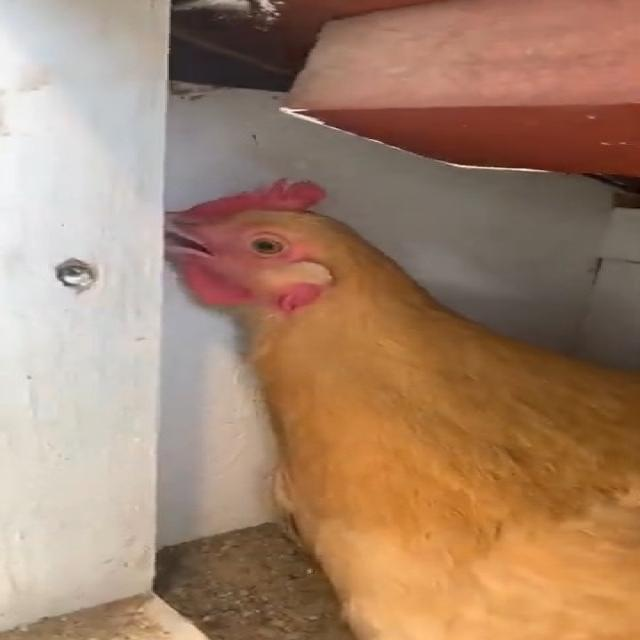Breathing: (162, 176, 638, 640)
